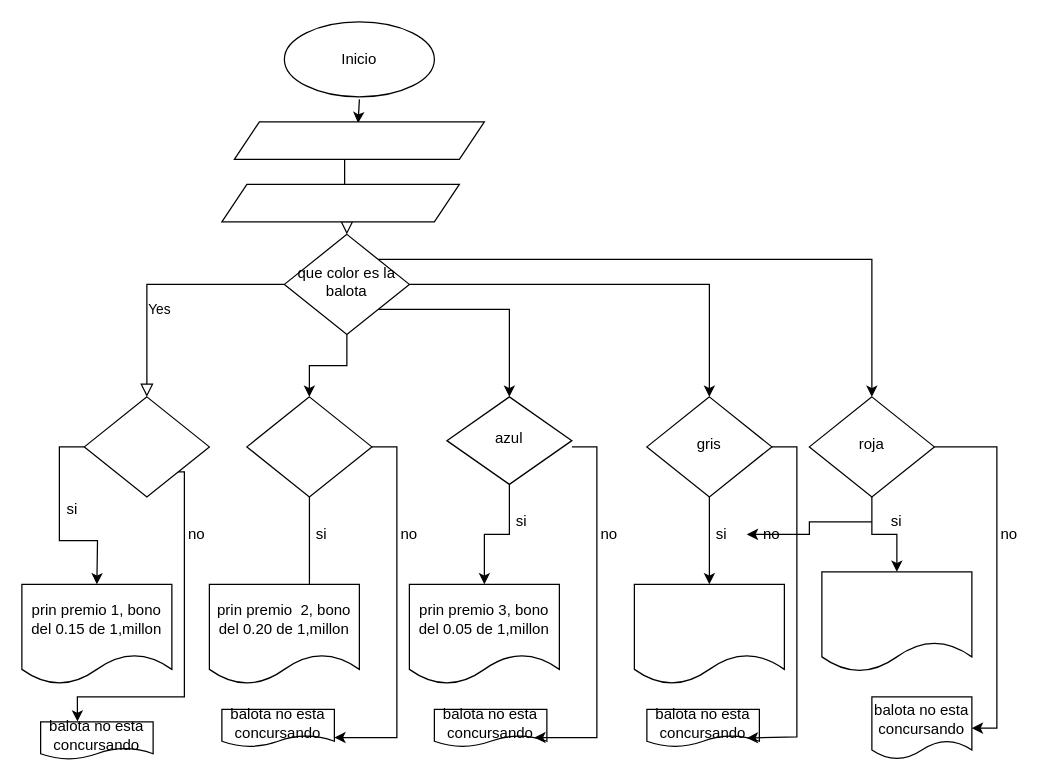
Some shapes in this 1056 by 781 pixel diagram are drawn without their labels. The shapes that lost their labels are listed below. From the top down, each one's centre as x and y in pixels, then its label:
[358,140]: nombre de la concursante
[340,202]: color de la balota
[146,446]: rosada
[309,446]: verde
[708,633]: prin premio 4, bono del 0.20 de 1,millon
[896,621]: no hay premio, bono 120.000
